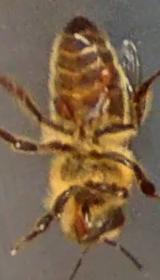varroa_mite: (48, 92, 78, 124), (93, 57, 118, 83)
